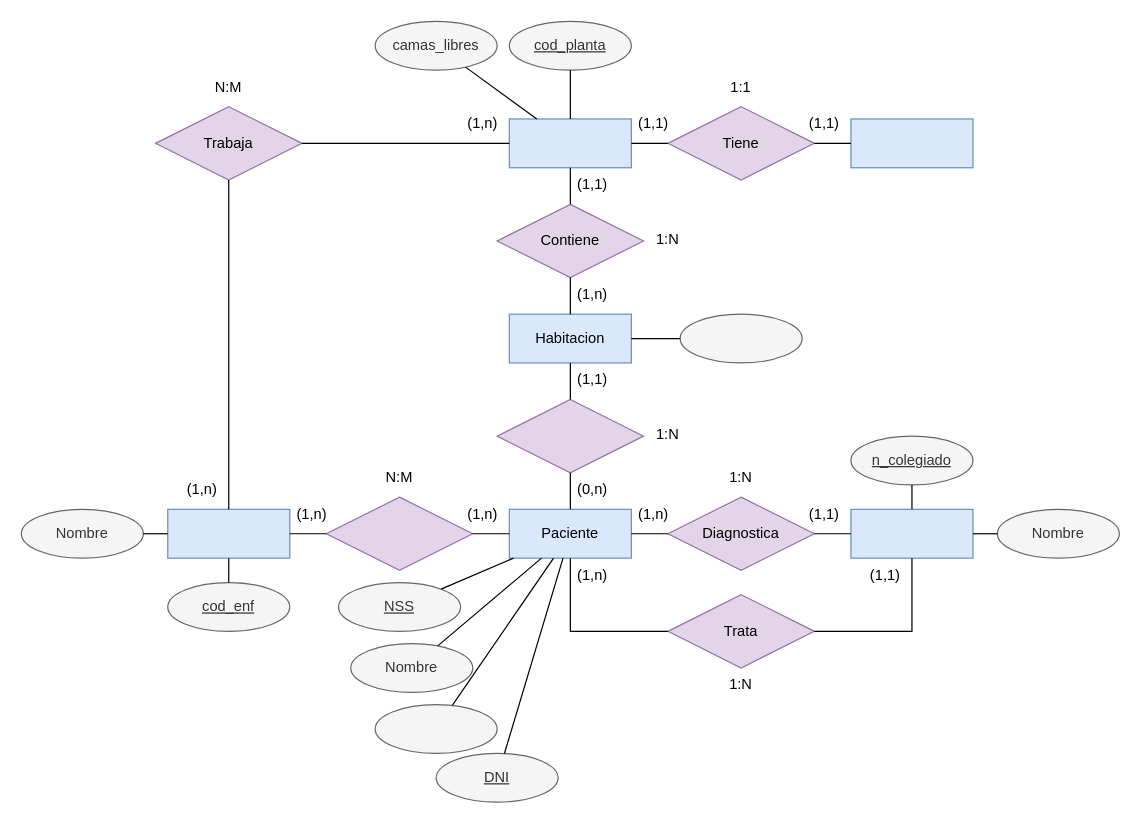
Some shapes in this 1141 by 824 pixel diagram are drawn without their labels. The centre of each missing label's shape, as x and y in pixels:
"Cuida" belongs at (x=399, y=533).
"Direccion" belongs at (x=435, y=728).
"Enfermero" belongs at (x=228, y=533).
"Especialidad" belongs at (x=911, y=143).
"Médico" belongs at (x=911, y=533).
"n_camas" belongs at (x=740, y=338).
"Planta" belongs at (x=569, y=143).
"se encuentra" belongs at (x=570, y=435).
